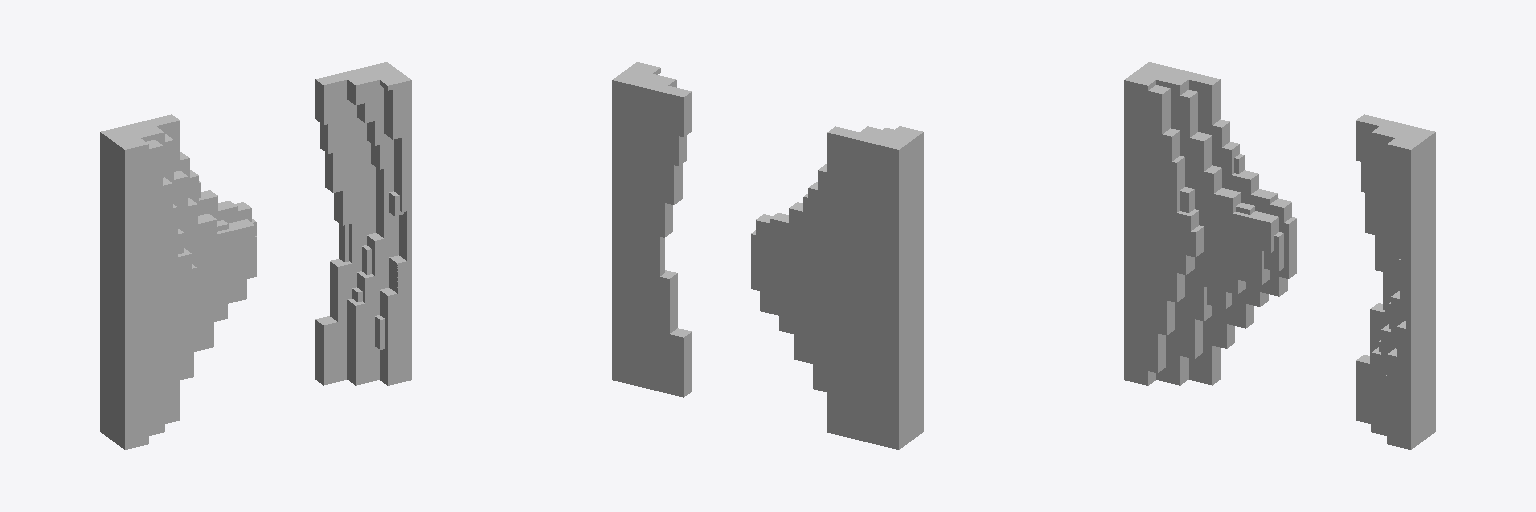
The model's file is wibble.obj.
3 views of the same model, side by side, from view 1: azimuth 30°, elevation 25°; view 2: azimuth 150°, elevation 25°; view 3: azimuth 330°, elevation 25° (orthographic).
Bounding box in the file's own units: 60 × 60 × 9.